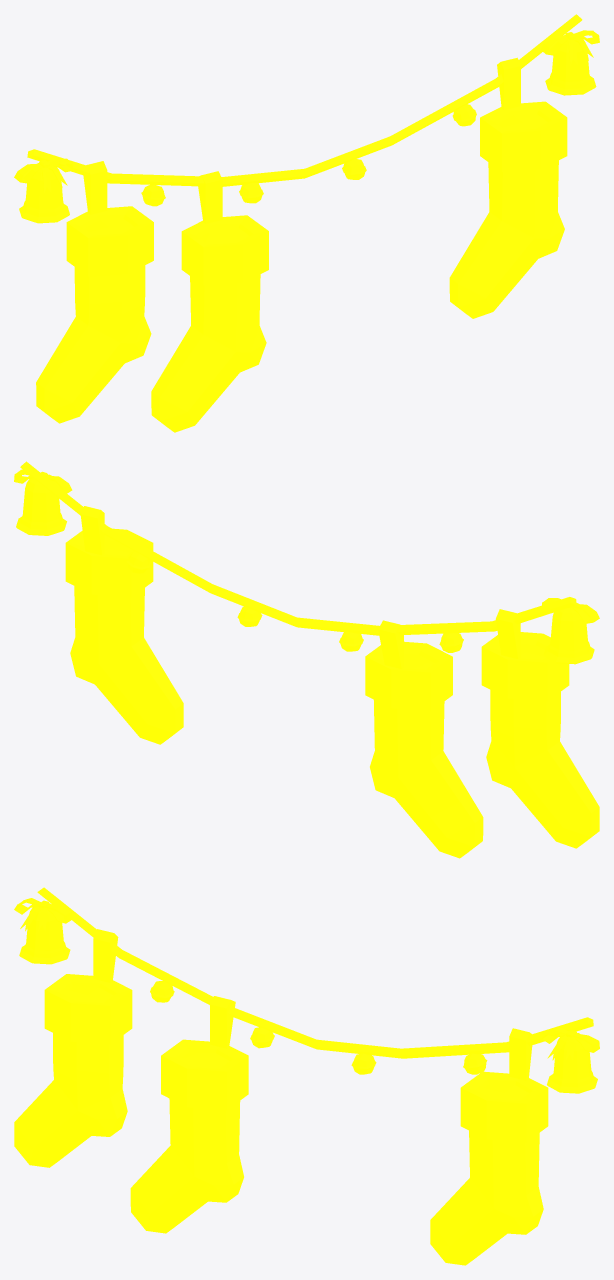
Rendered from christmas-stockings.glb.
The picture shows the model from 3 angles, top to bottom: view 1: azimuth 30°, elevation 25°; view 2: azimuth 150°, elevation 25°; view 3: azimuth 330°, elevation 25°; orthographic projection.
Parts seen in each view (by area): view 1: christmas_stockings; view 2: christmas_stockings; view 3: christmas_stockings.
Boxes of the visible parts, <box> form: christmas_stockings: <box>14,14,599,432</box>; christmas_stockings: <box>14,461,599,858</box>; christmas_stockings: <box>14,887,599,1265</box>.
Size of the model in its own units: 1.23 by 0.6131 by 0.1553.
1 material, 1 textured.
